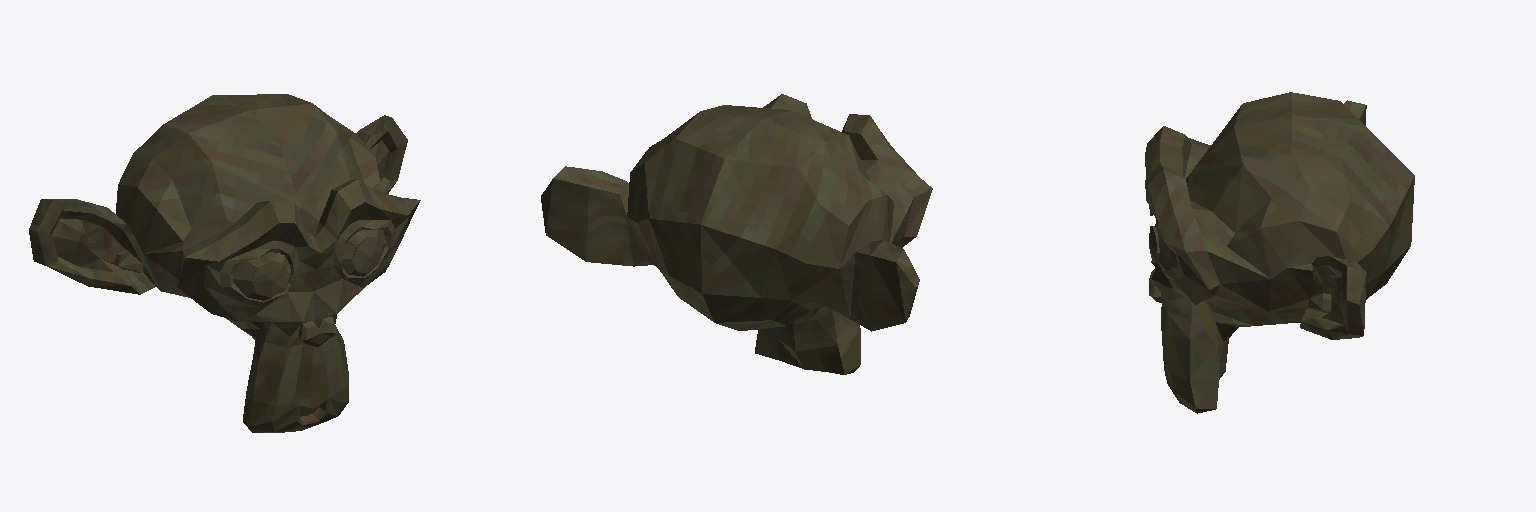
3 renders of one model, left to right at view 1: azimuth 30°, elevation 25°; view 2: azimuth 150°, elevation 25°; view 3: azimuth 270°, elevation 25°, orthographic.
Visible parts, largest first — view 1: Suzanne; view 2: Suzanne; view 3: Suzanne.
Boxes of the visible parts, x1=… form: Suzanne: x1=29, y1=94, x2=420, y2=432; Suzanne: x1=541, y1=94, x2=932, y2=374; Suzanne: x1=1145, y1=92, x2=1414, y2=413.
Bounding box in the file's own units: 2.73 × 1.97 × 1.7.
Materials: 1 (1 with a texture image).